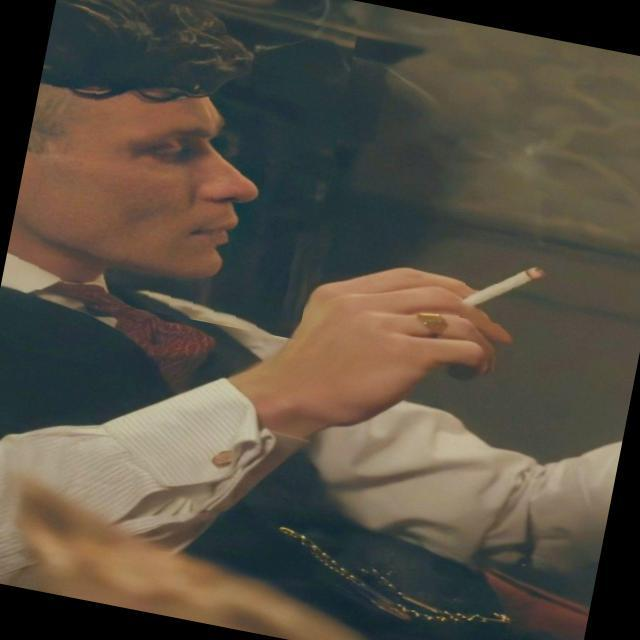cigarette: (459, 230, 568, 336)
